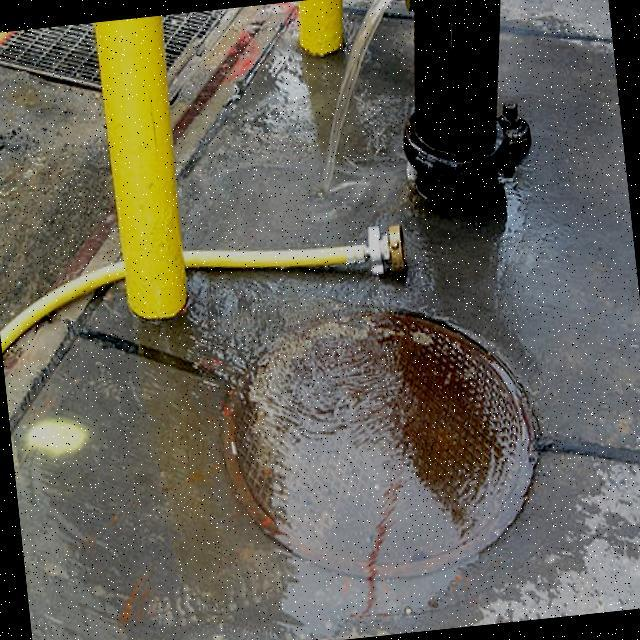fire_hydrant: (388, 0, 523, 214)
